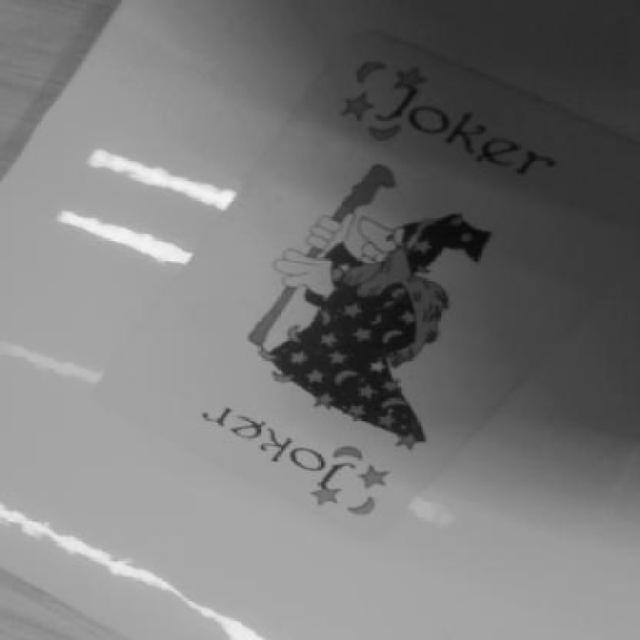BLACK JOKER: (163, 374, 422, 546), (323, 71, 605, 191)
